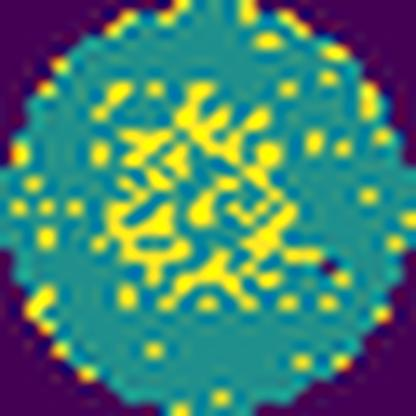Donut: (75, 68, 333, 321)
